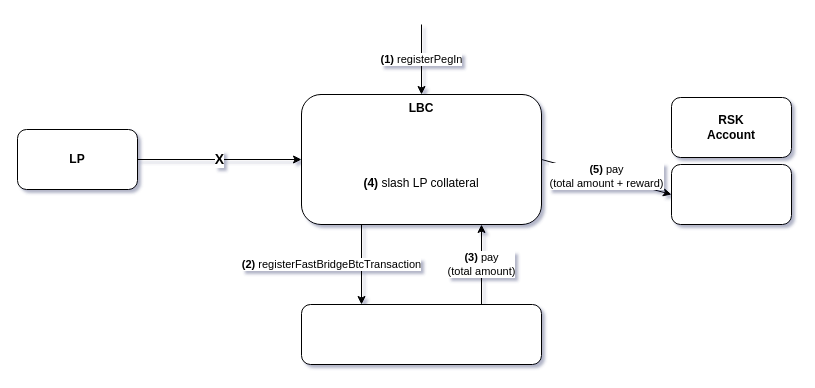
Some shapes in this 815 by 388 pixel diagram are drawn without their labels. Here are the shapes that lost their labels. From the top down, the centre of each, then its label:
At (x=731, y=194): "Refund RSK Account".
At (x=421, y=334): "Bridge".
